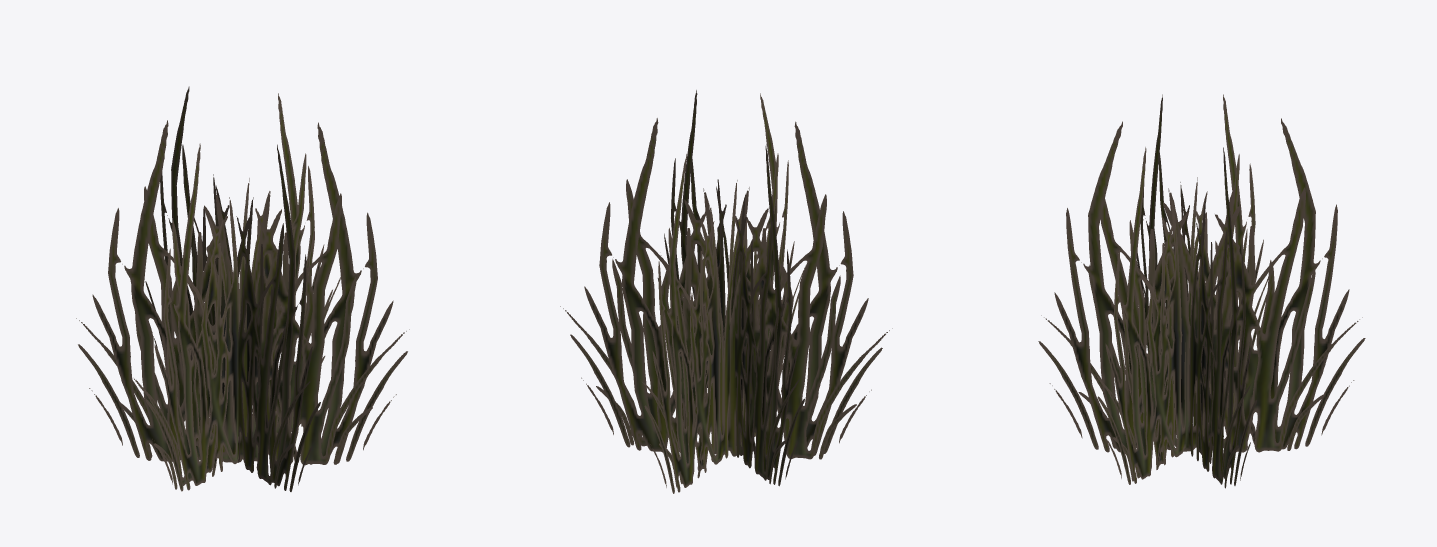
Rendered from ST_Grass_v3.fbx.
The picture shows the model from 3 angles, left to right: view 1: azimuth 30°, elevation 25°; view 2: azimuth 150°, elevation 25°; view 3: azimuth 270°, elevation 25°; orthographic projection. The views are drawn at different scales.
Visible parts, largest first — view 1: Grass_v3; view 2: Grass_v3; view 3: Grass_v3.
Part boxes in pixels (bbox=[...]): Grass_v3: bbox=[76, 86, 409, 491]; Grass_v3: bbox=[560, 90, 892, 493]; Grass_v3: bbox=[1038, 94, 1365, 488].
Bounding box in the file's own units: 85.77 × 81.96 × 89.57.
